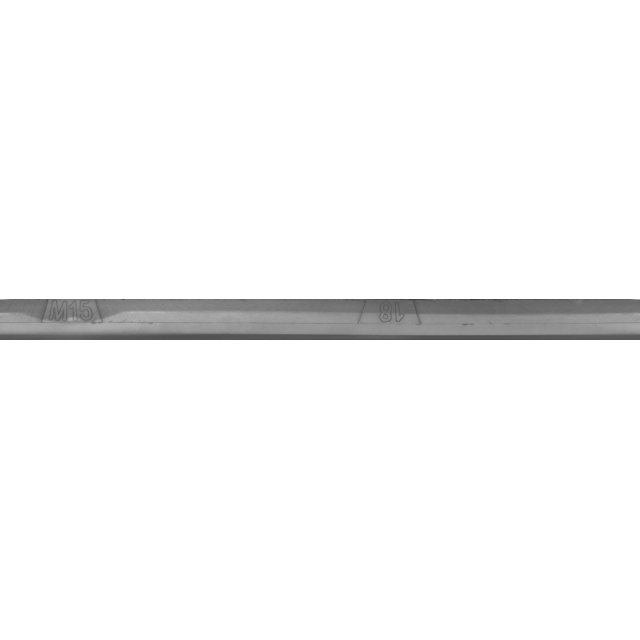mohao: (0, 270, 174, 370)
xuehao: (295, 270, 495, 370)
